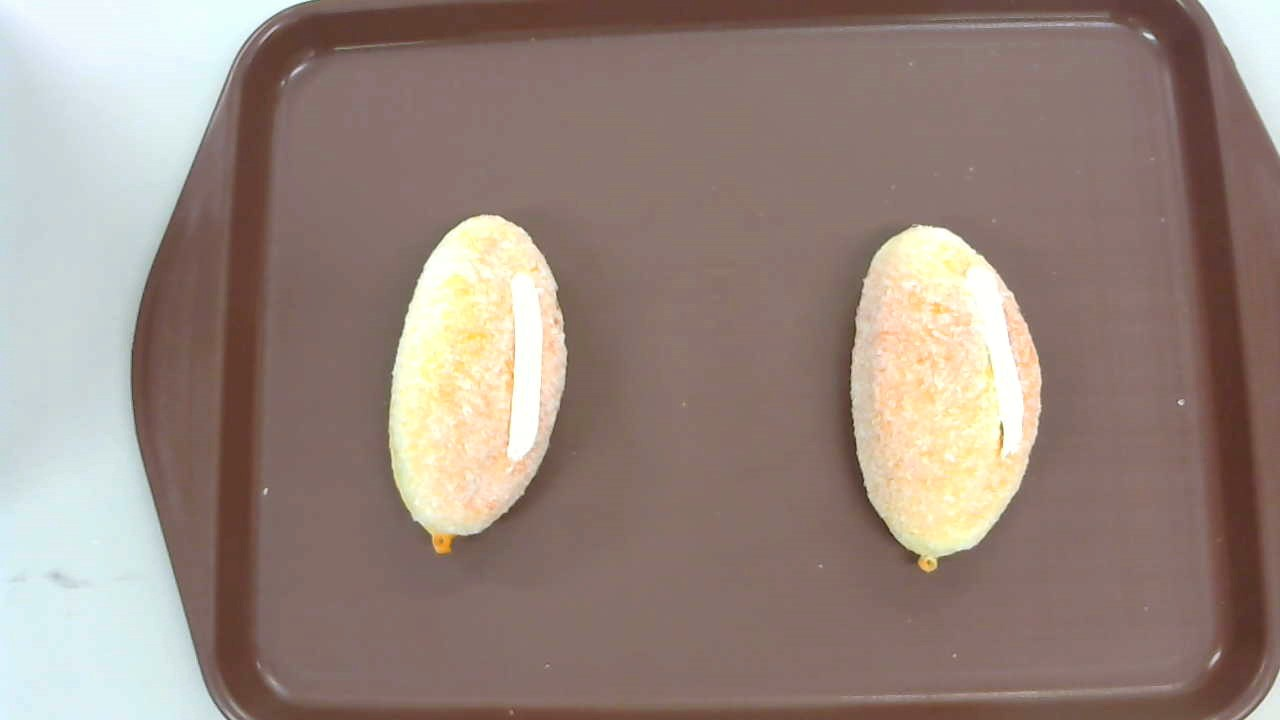coconut: (850, 225, 1040, 571), (388, 215, 570, 554)
